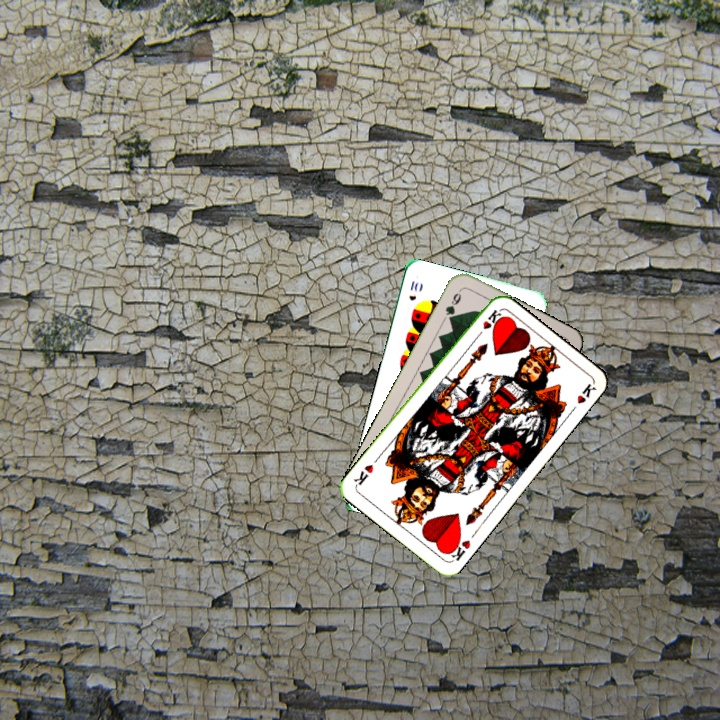G9: (441, 285, 464, 324)
HK: (472, 305, 504, 341), (443, 533, 473, 563)
S10: (405, 276, 421, 303)
